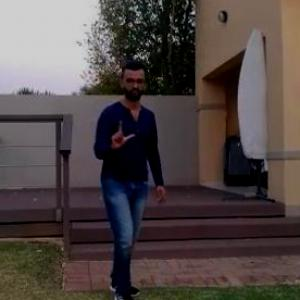land_hand: (106, 114, 142, 157)
